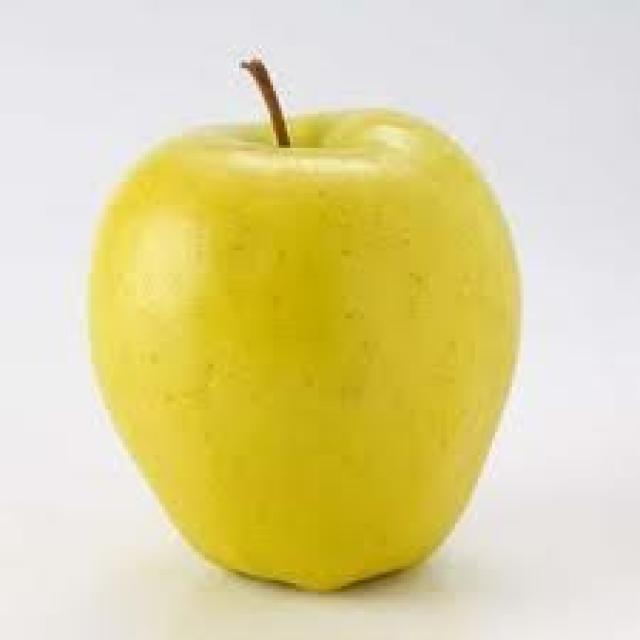apple: (80, 42, 529, 592)
